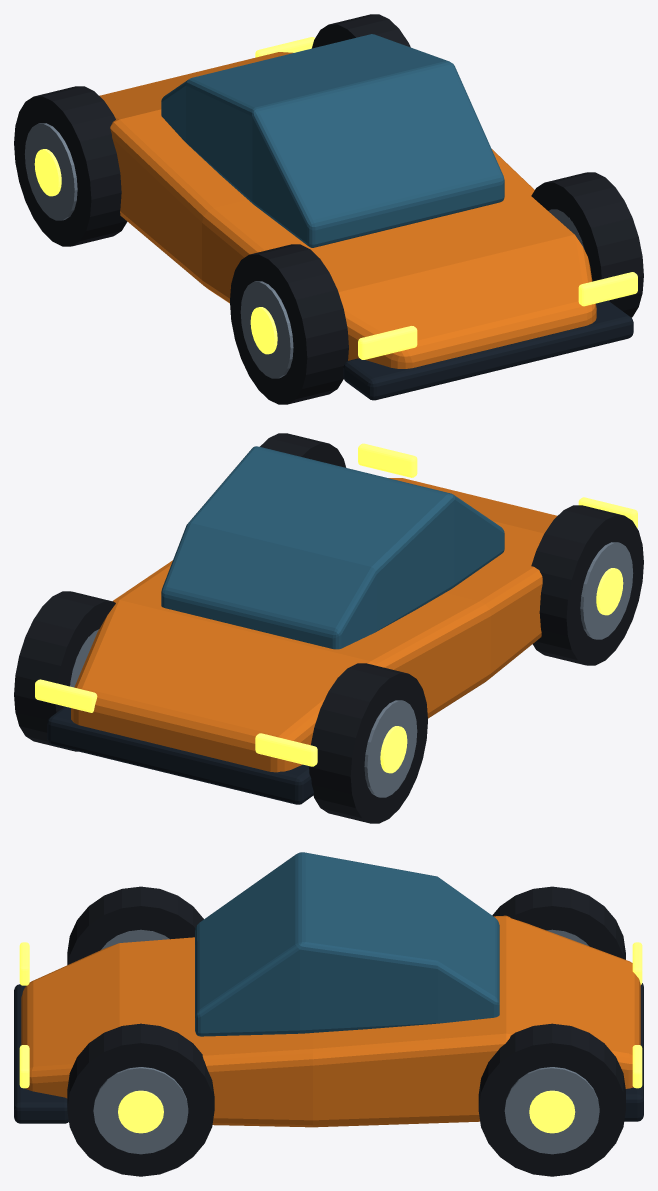
The model's file is rainlineswitchback.glb.
3 views of the same model, one above another, from view 1: azimuth 30°, elevation 25°; view 2: azimuth 150°, elevation 25°; view 3: azimuth 270°, elevation 25° (orthographic). The views are drawn at different scales.
Parts seen in each view (by area): view 1: BodyShell, GlassCanopy, Tire, Tire.001, Splitter, Tire.002, Wheel, Wheel.001, Tire.003, Headlight.001, Headlight, BrakeDisc (+2 smaller); view 2: BodyShell, GlassCanopy, Tire.001, Tire, Diffuser, Tire.003, Wheel, Wheel.001, Tire.002, Headlight.001, Taillight, Taillight.001 (+3 smaller); view 3: BodyShell, GlassCanopy, Tire.002, Tire.003, Tire, Wheel.002, Wheel.003, Tire.001, Splitter, BrakeDisc.003, BrakeDisc.002, Diffuser (+2 smaller).
Boxes of the visible parts, x1,y1,x2,y2 form: BodyShell: (99, 52, 596, 368); GlassCanopy: (161, 34, 504, 247); Tire: (230, 244, 348, 404); Tire.001: (14, 86, 127, 246); Splitter: (343, 300, 633, 400); Tire.002: (531, 172, 643, 317); Wheel: (240, 281, 293, 378); Wheel.001: (24, 123, 77, 220); Tire.003: (312, 14, 410, 48); Headlight.001: (578, 272, 637, 306); Headlight: (358, 326, 417, 359); BrakeDisc: (250, 307, 277, 354); BodyShell: (71, 478, 557, 772); GlassCanopy: (161, 446, 504, 649); Tire.001: (309, 663, 427, 823); Tire: (531, 505, 643, 665); Diffuser: (47, 706, 313, 804); Tire.003: (14, 591, 115, 751); Wheel: (580, 542, 633, 639); Wheel.001: (364, 700, 417, 797); Tire.002: (260, 433, 346, 467); Headlight.001: (358, 443, 417, 477); Taillight: (255, 733, 317, 766); Taillight.001: (35, 679, 97, 712); BodyShell: (21, 915, 640, 1127); GlassCanopy: (195, 852, 499, 1036); Tire.002: (67, 1023, 214, 1176); Tire.003: (478, 1023, 625, 1176); Tire: (67, 886, 203, 964); Wheel.002: (93, 1067, 188, 1154); Wheel.003: (504, 1067, 599, 1154); Tire.001: (492, 886, 625, 959); Splitter: (14, 984, 68, 1123); BrakeDisc.003: (529, 1090, 575, 1133); BrakeDisc.002: (118, 1090, 163, 1133); Diffuser: (624, 983, 643, 1121).
Size of the model in its own units: 2.34 by 1.35 by 3.84.
